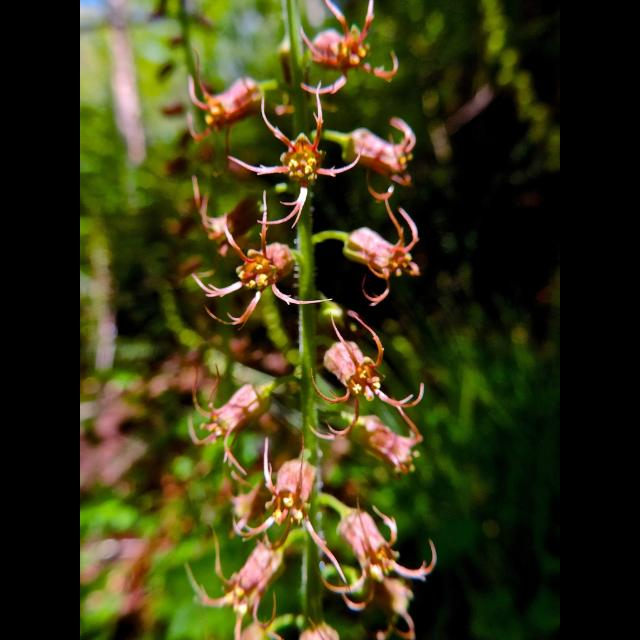Flower: (198, 199, 329, 327), (230, 112, 356, 238), (228, 442, 340, 582), (310, 311, 422, 441), (317, 500, 439, 608), (178, 533, 286, 639), (302, 396, 426, 482), (286, 0, 399, 86), (188, 363, 274, 472), (184, 74, 270, 160), (337, 114, 417, 202), (338, 210, 414, 282)
